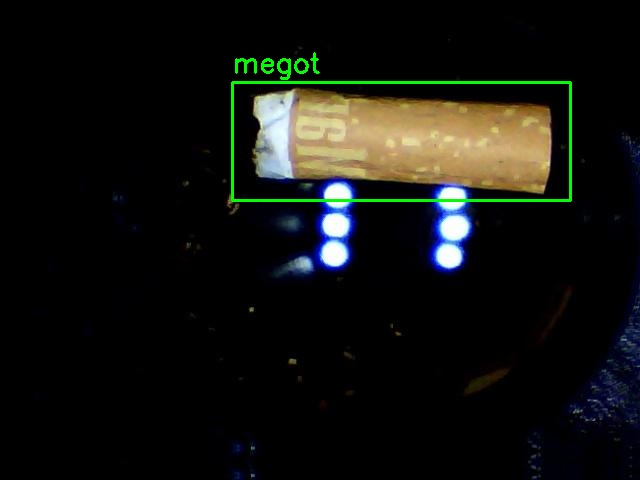megot: (232, 82, 570, 200)
